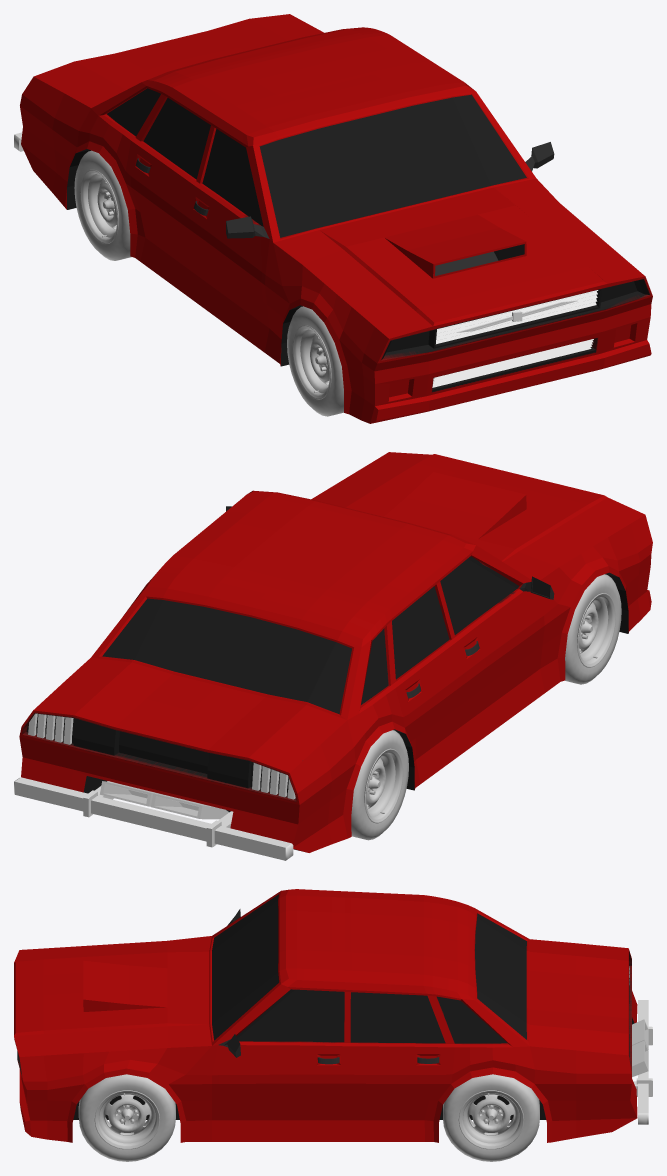
Rendered from lowpol_test_01.fbx.
3 views of the same model, one above another, from view 1: azimuth 30°, elevation 25°; view 2: azimuth 150°, elevation 25°; view 3: azimuth 270°, elevation 25° (orthographic). The views are drawn at different scales.
Parts seen in each view (by area): view 1: Chassis, Tire_FR, Tire_RR, Rim_FR, Rim_RR, Grill_Upper, Grill_Lower; view 2: Chassis, Rear_Bumper, Tire_RR, Tire_FR, Rim_RR, Rim_FR, Exhaust, Rear_L_Light, Rear_R_Light; view 3: Chassis, Tire_FL, Tire_RL, Rim_FL, Rim_RL, Rear_Bumper, Exhaust.
Boxes of the visible parts, bbox=[...] form: Chassis: bbox=[20, 14, 652, 423]; Tire_FR: bbox=[287, 306, 343, 416]; Tire_RR: bbox=[74, 150, 131, 260]; Rim_FR: bbox=[292, 325, 331, 399]; Rim_RR: bbox=[80, 169, 118, 243]; Grill_Upper: bbox=[436, 290, 598, 344]; Grill_Lower: bbox=[432, 339, 593, 387]; Chassis: bbox=[19, 452, 652, 852]; Rear_Bumper: bbox=[14, 777, 293, 860]; Tire_RR: bbox=[351, 730, 408, 840]; Tire_FR: bbox=[565, 574, 621, 684]; Rim_RR: bbox=[364, 748, 403, 823]; Rim_FR: bbox=[577, 593, 615, 667]; Exhaust: bbox=[100, 781, 228, 819]; Rear_L_Light: bbox=[28, 713, 73, 744]; Rear_R_Light: bbox=[252, 763, 295, 799]; Chassis: bbox=[14, 889, 637, 1142]; Tire_FL: bbox=[78, 1074, 175, 1161]; Tire_RL: bbox=[443, 1074, 539, 1161]; Rim_FL: bbox=[94, 1090, 159, 1149]; Rim_RL: bbox=[458, 1090, 524, 1149]; Rear_Bumper: bbox=[633, 1000, 652, 1124]; Exhaust: bbox=[632, 1019, 648, 1077].
Bounding box in the file's own units: 191 × 113 × 378.
